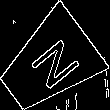N_SW: (18, 33, 79, 95)
